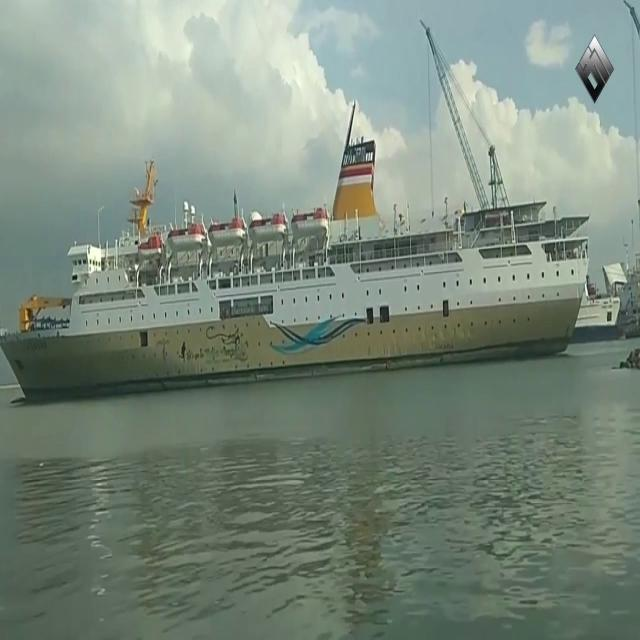PassengerShip: (9, 187, 590, 410)
